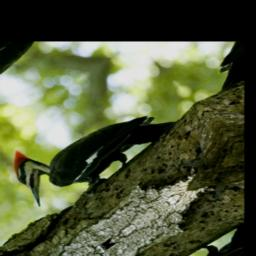Woodpecker: (0, 74, 183, 219)
